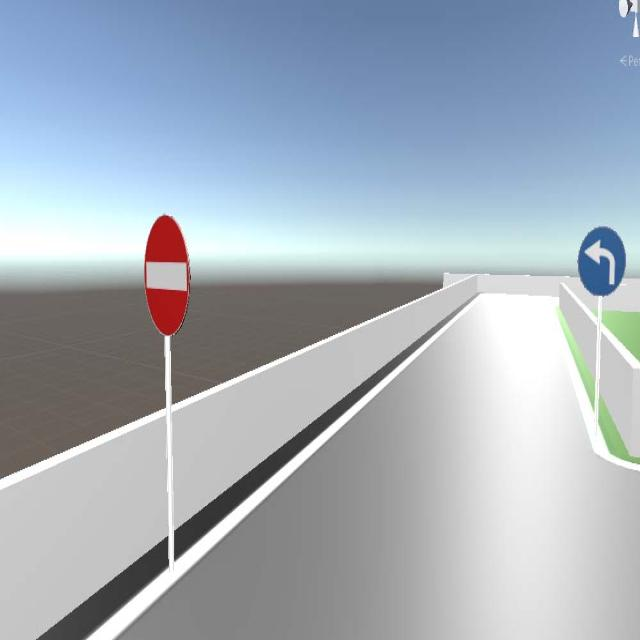girisyok: (144, 214, 190, 338)
sol: (578, 228, 625, 296)
